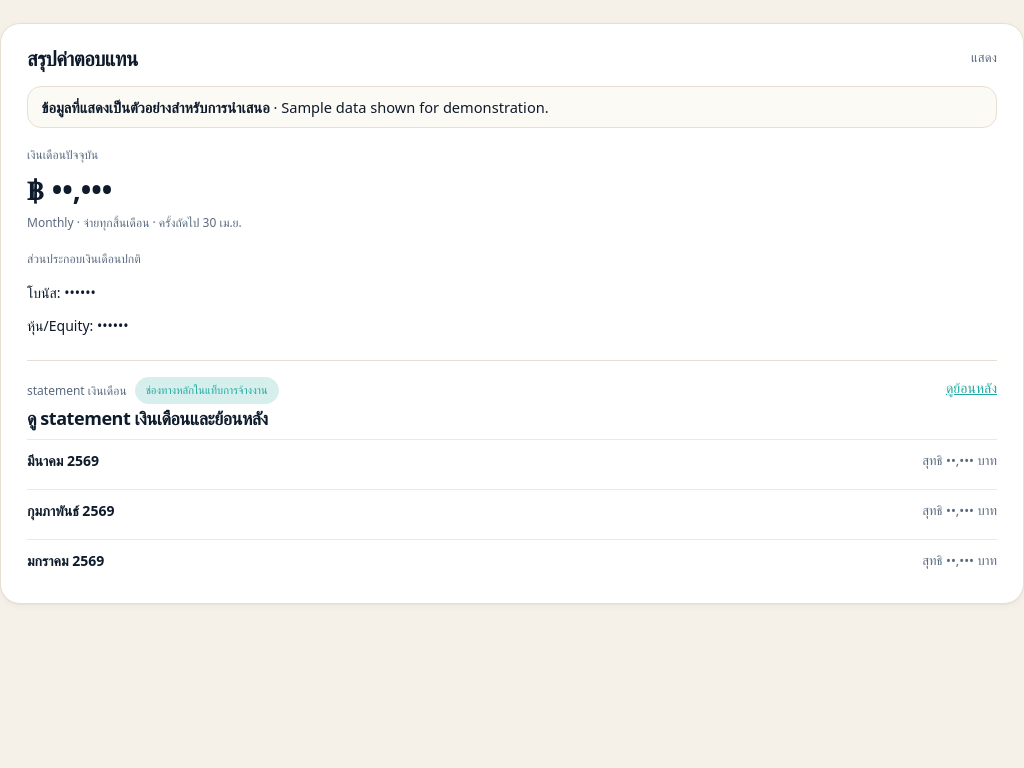
it: hr#83 BRD #170 — CompensationSummary › AC-3 — clicking reveal unmasks base salary
This screenshot has width=1024, height=768.
Click the button with aria-label "แสดงเงินเดือน" at (984, 58), box [971,48,997,67]
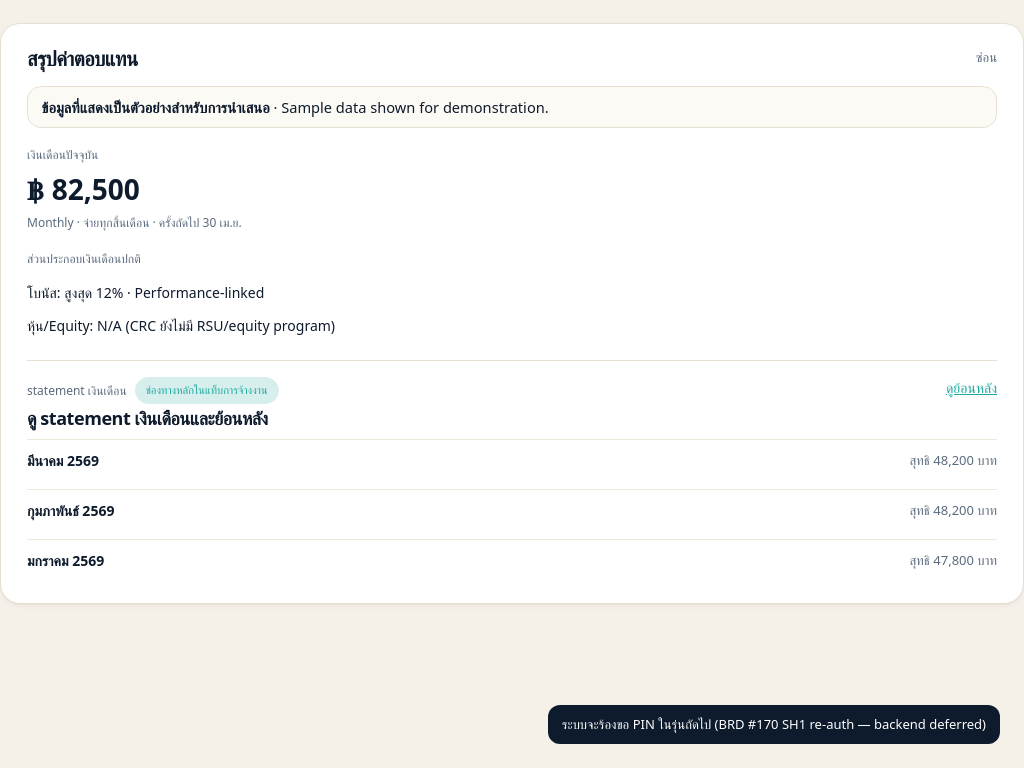
Expected: the element with test id "comp-base" shows "82,500", [27,170,140,208]
Expected: the text with test id "comp-base" no longer shows "฿ ••,•••"
